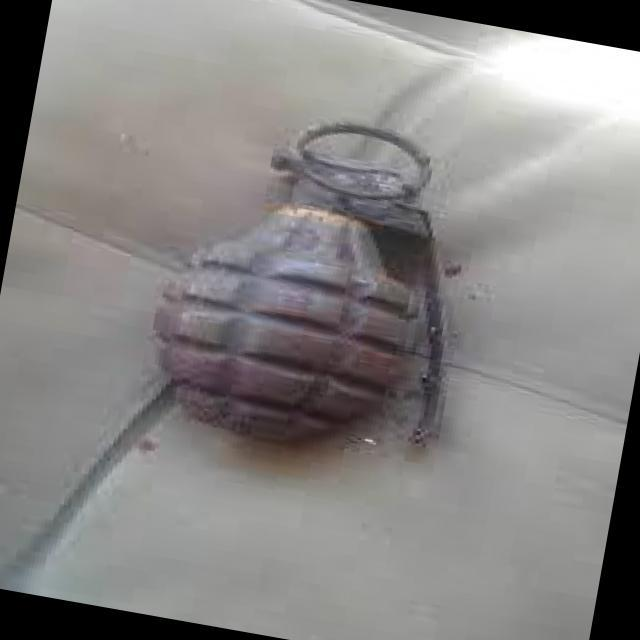grenade: (135, 94, 516, 485)
